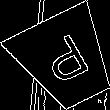P_SE: (36, 29, 96, 91)
